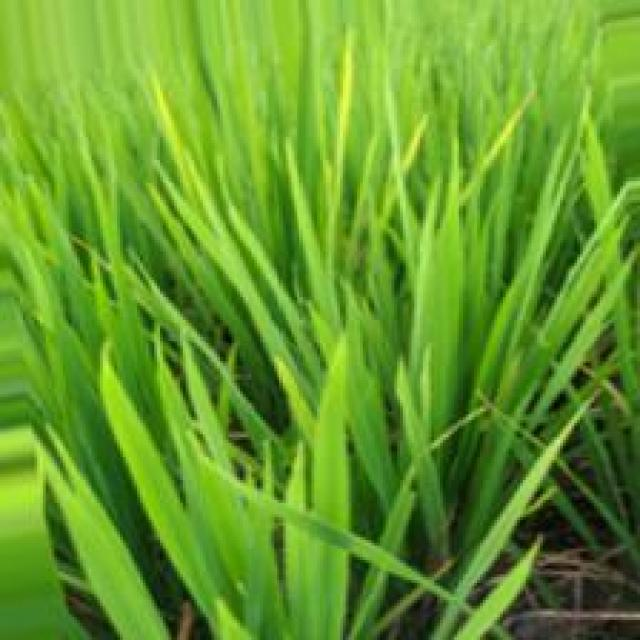HealthyLeaf: (112, 421, 198, 561), (86, 557, 159, 635), (432, 229, 460, 414)
